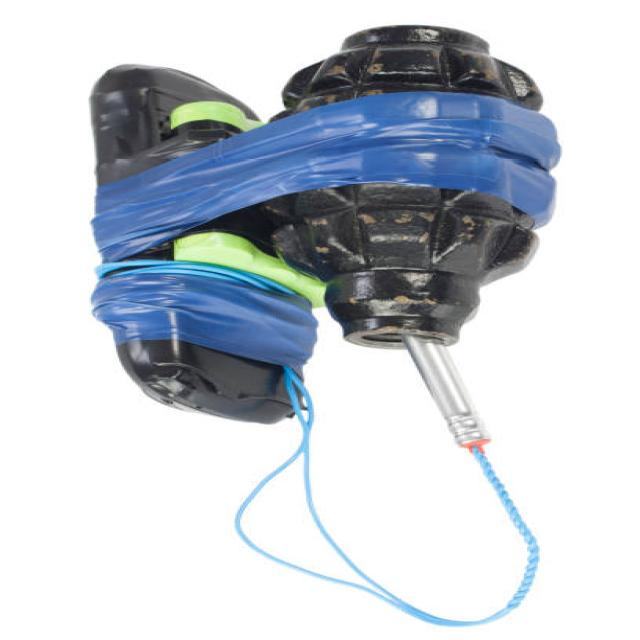grenade: (266, 19, 566, 360)
